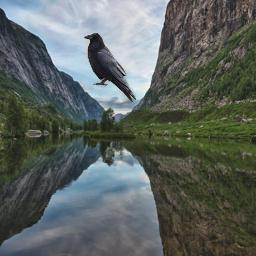Crow: (83, 32, 137, 103)
